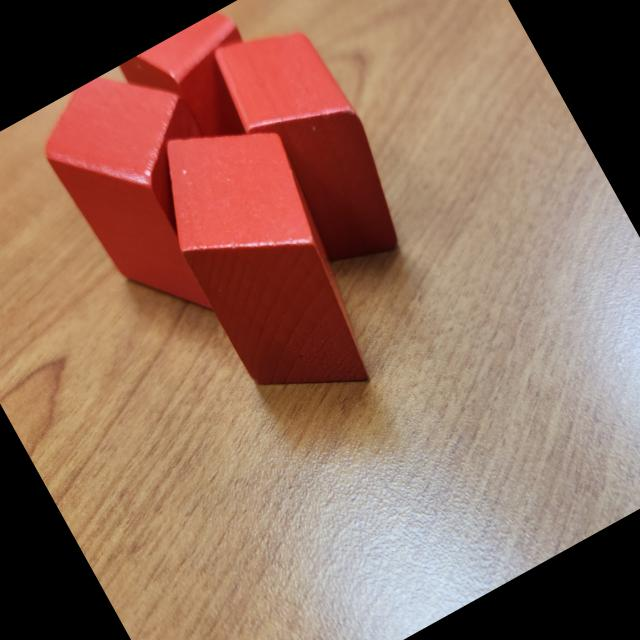red: (128, 90, 404, 433), (25, 49, 279, 346), (191, 0, 426, 291), (116, 7, 283, 172)
